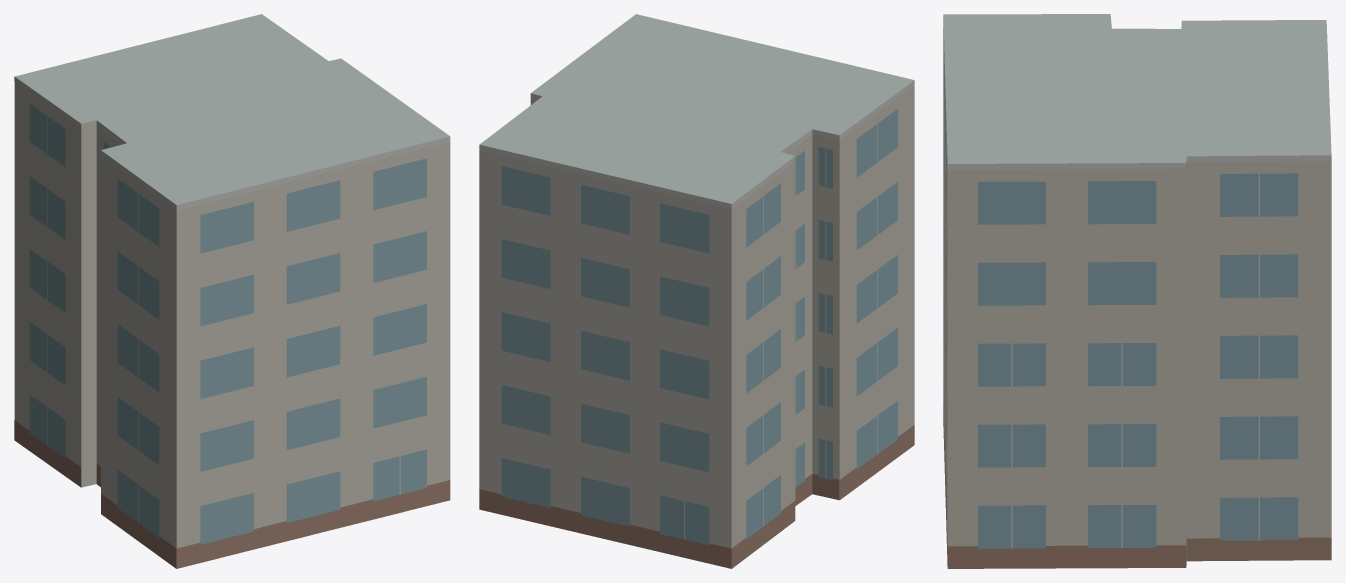
Rendered from survey-upis-32969403.glb.
The picture shows the model from 3 angles, left to right: view 1: azimuth 30°, elevation 25°; view 2: azimuth 150°, elevation 25°; view 3: azimuth 270°, elevation 25°; orthographic projection. The views are drawn at different scales.
Visible parts, largest first — view 1: survey-upis-32969403.tmp; view 2: survey-upis-32969403.tmp; view 3: survey-upis-32969403.tmp.
Part boxes in pixels (left/top/right/bottom): survey-upis-32969403.tmp: left=14, top=14, right=450, bottom=568; survey-upis-32969403.tmp: left=479, top=14, right=914, bottom=568; survey-upis-32969403.tmp: left=943, top=14, right=1331, bottom=568.
Bounding box in the file's own units: 13.43 × 16.89 × 14.69.
